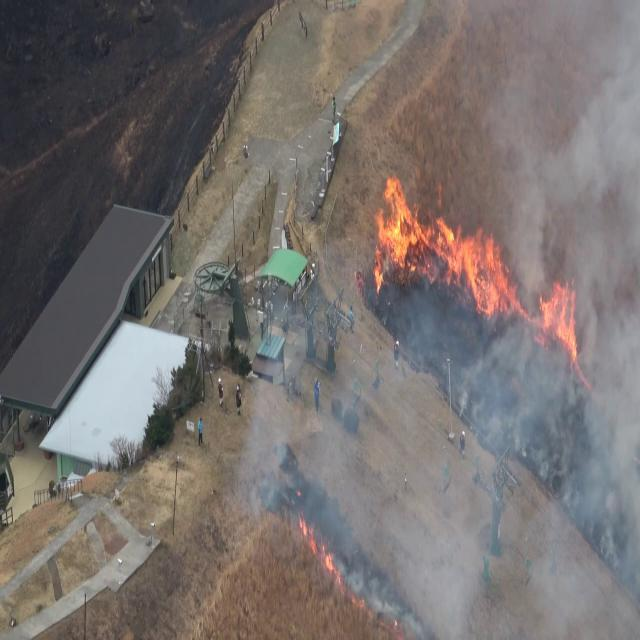Fire: (369, 175, 512, 318), (537, 274, 581, 364)
Smoke: (252, 288, 638, 638), (514, 1, 640, 640)
